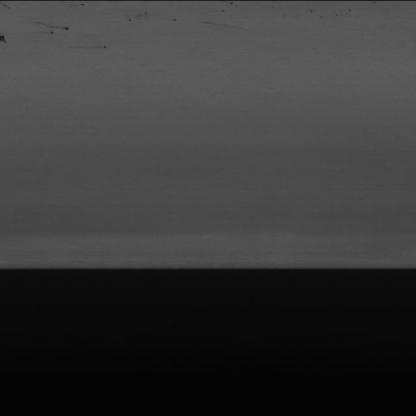inclusion: (127, 8, 179, 25), (42, 21, 72, 39)
